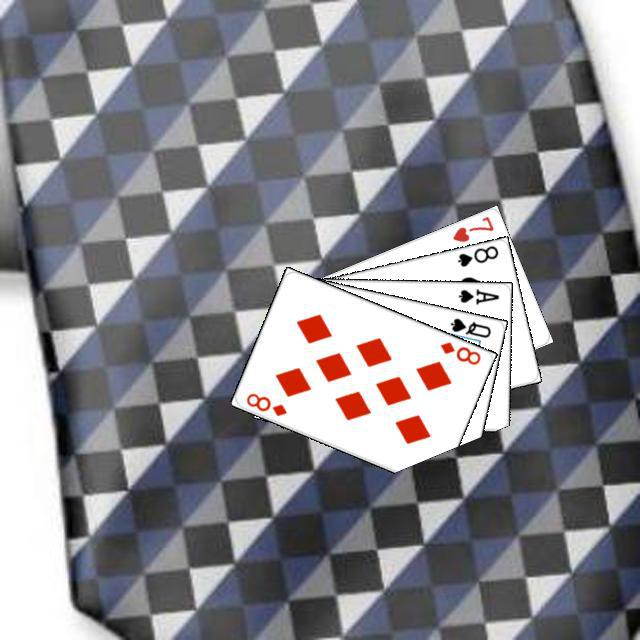7h: (447, 211, 495, 244)
8d: (435, 337, 482, 367), (241, 388, 288, 418)
8s: (453, 241, 500, 268)
As: (453, 284, 500, 306)
Qs: (446, 313, 492, 339)
